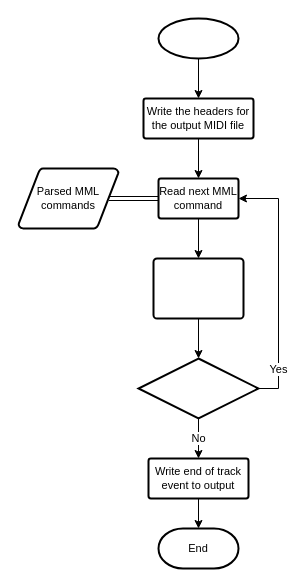
Image size: 304x586. Some labels were removed from this diagram. Here are the shapes that lost their labels. From the top down, the centre of each, then its label:
At (x=198, y=38): "Start".
At (x=198, y=288): "Write corresponding MIDI event to the output".
At (x=198, y=388): "Any MML commands left?".
